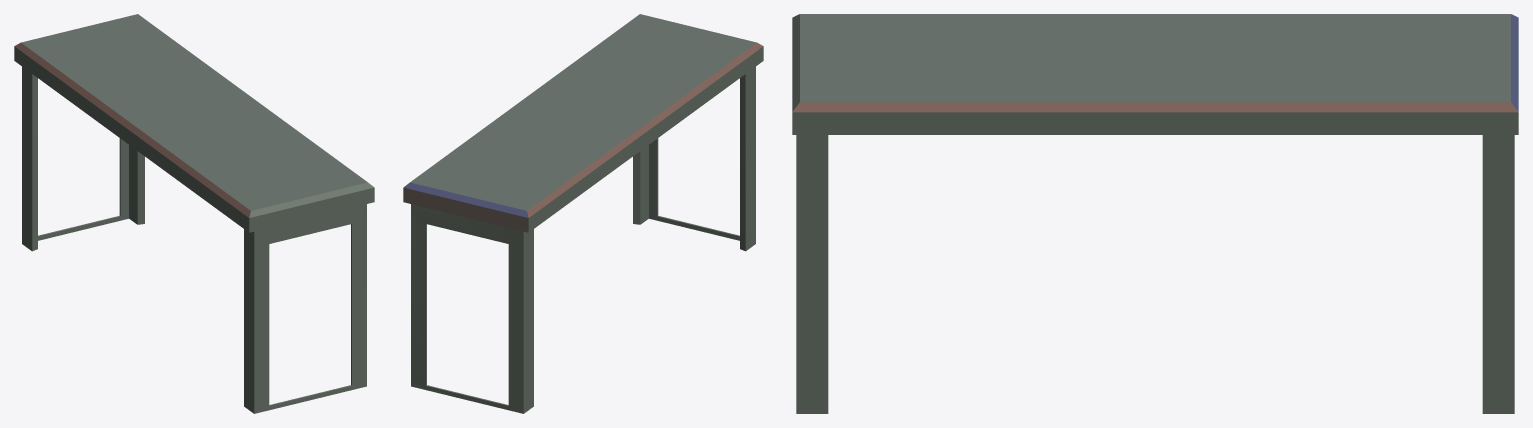
File: krotka.fbx
3 renders of one model, left to right at view 1: azimuth 30°, elevation 25°; view 2: azimuth 150°, elevation 25°; view 3: azimuth 270°, elevation 25°, orthographic. The views are drawn at different scales.
Parts seen in each view (by area): view 1: Cube, krotka; view 2: Cube, krotka; view 3: Cube, krotka.
Part boxes in pixels (left/top/right/bottom): Cube: left=14, top=14, right=374, bottom=232; krotka: left=22, top=66, right=366, bottom=413; Cube: left=403, top=14, right=763, bottom=232; krotka: left=411, top=66, right=755, bottom=413; Cube: left=792, top=14, right=1518, bottom=134; krotka: left=796, top=135, right=1514, bottom=413.
Bounding box in the file's own units: 3 × 4.63 × 9.74.
